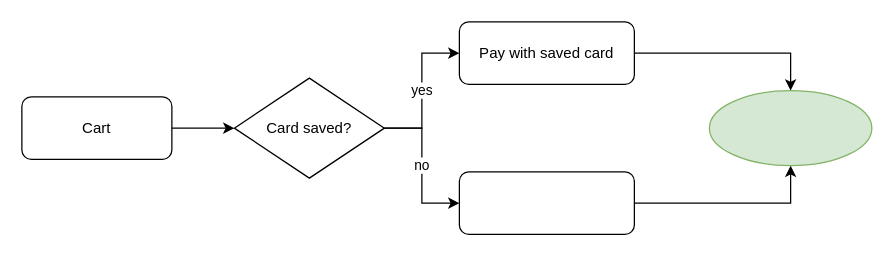
This 894x256 diagram has some shape labels left out. Each missing label, with the centre of its shape:
"Card form" goes at (546,202).
"Order confirmed" goes at (790,127).
